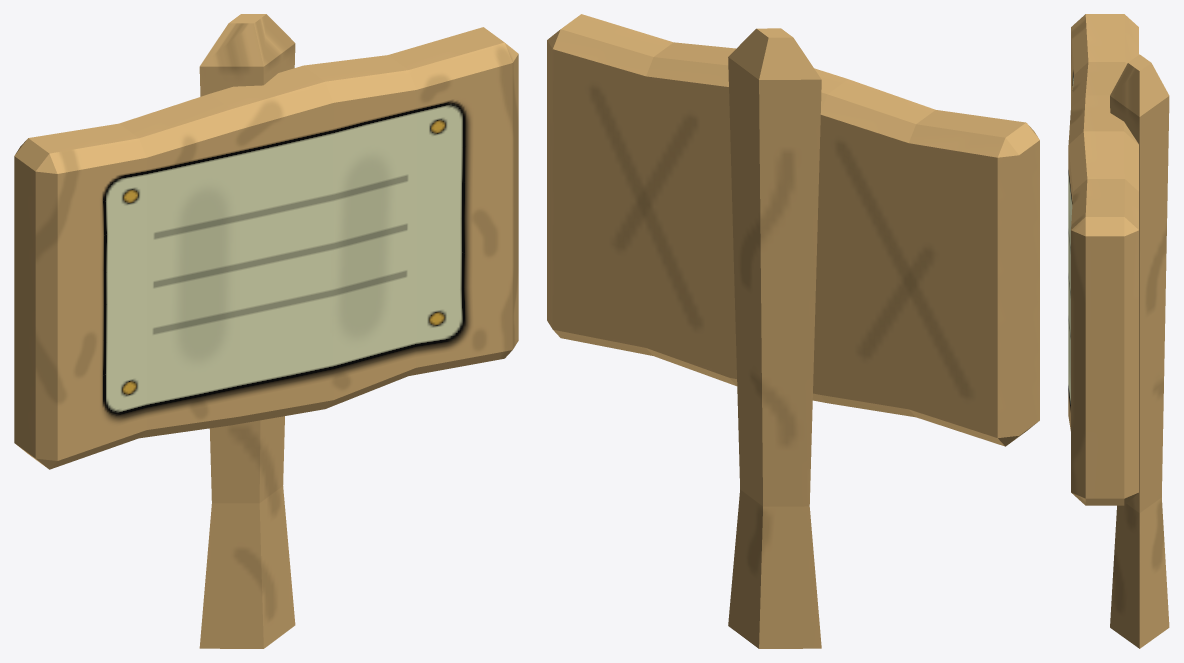
File: SignPlate1.glb
The picture shows the model from 3 angles, left to right: view 1: azimuth 30°, elevation 25°; view 2: azimuth 150°, elevation 25°; view 3: azimuth 270°, elevation 25°; orthographic projection. The views are drawn at different scales.
Parts seen in each view (by area): view 1: Cube; view 2: Cube; view 3: Cube.
Part boxes in pixels (x1,y1,x2,y2): Cube: (14,14,518,648); Cube: (547,14,1039,648); Cube: (1068,14,1169,648).
Bounding box in the file's own units: 1.19 × 1.46 × 0.2362.
Materials: 1 (1 with a texture image).
